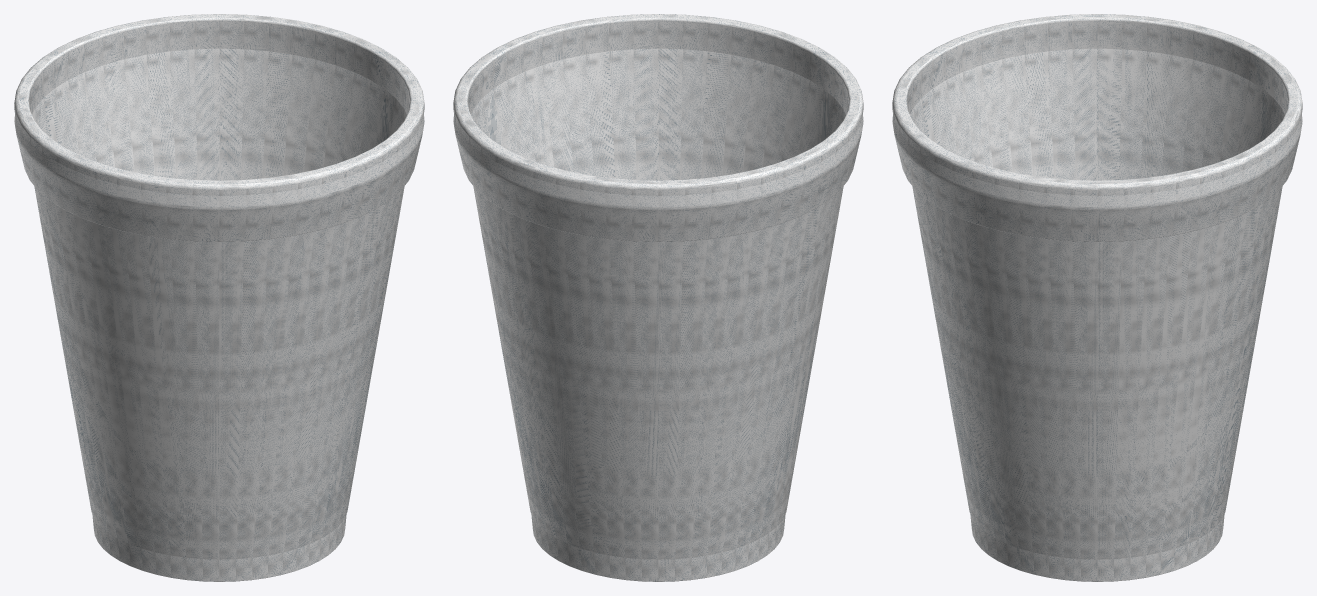
File: styro.dae
3 views of the same model, side by side, from view 1: azimuth 30°, elevation 25°; view 2: azimuth 150°, elevation 25°; view 3: azimuth 270°, elevation 25° (orthographic).
Parts seen in each view (by area): view 1: OuterShell (×5); view 2: OuterShell (×5); view 3: OuterShell (×5).
Boxes of the visible parts, x1,y1,x2,y2 form: OuterShell (×5): (14, 14, 424, 581); OuterShell (×5): (453, 14, 863, 581); OuterShell (×5): (892, 14, 1302, 581).
Size of the model in its own units: 3.66 by 3.66 by 4.23.
3 materials, 1 textured.
